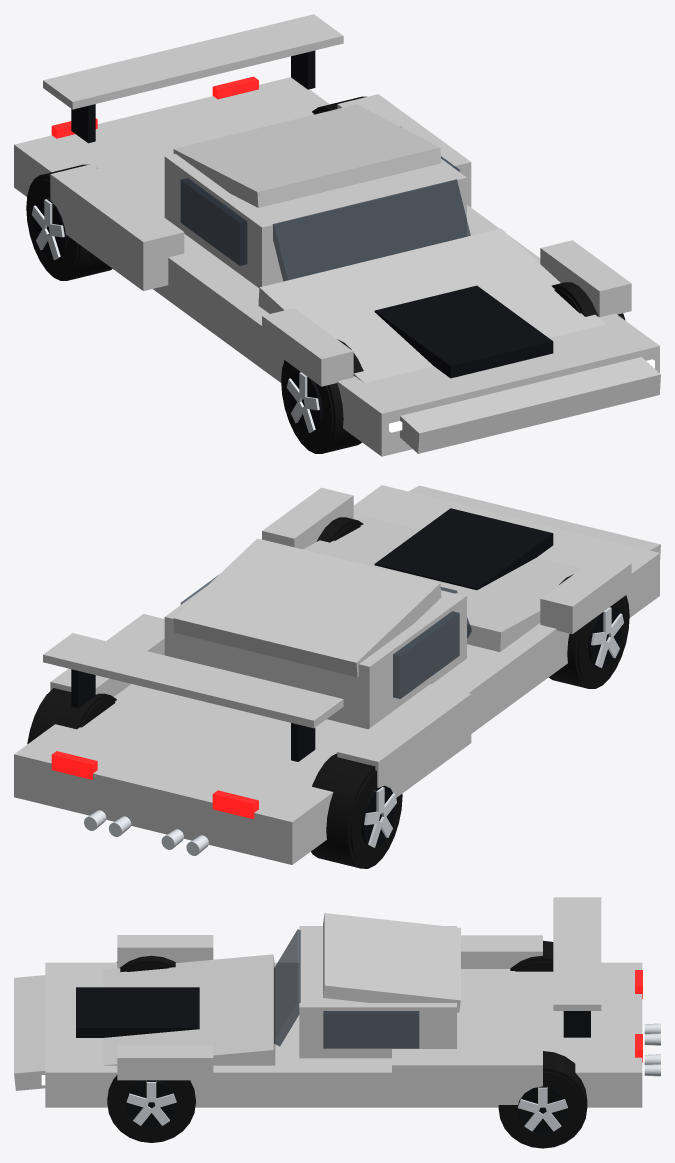
Rendered from shovel-megalodon.glb.
3 views of the same model, one above another, from view 1: azimuth 30°, elevation 25°; view 2: azimuth 150°, elevation 25°; view 3: azimuth 270°, elevation 25° (orthographic). The views are drawn at different scales.
Visible parts, largest first — view 1: chassis, glass, wheel-front-left, wheel-back-left, wheel-front-right; view 2: chassis, wheel-back-left, wheel-front-left, wheel-back-right, wheel-front-right; view 3: chassis, wheel-back-right, wheel-front-right, glass, wheel-back-left, wheel-front-left.
Boxes of the visible parts, bbox=[...] form: chassis: bbox=[14, 14, 660, 456]; glass: bbox=[272, 179, 470, 281]; wheel-front-left: bbox=[281, 339, 363, 453]; wheel-back-left: bbox=[26, 164, 112, 280]; wheel-front-right: bbox=[552, 282, 625, 320]; chassis: bbox=[14, 485, 660, 864]; wheel-back-left: bbox=[311, 753, 402, 868]; wheel-front-left: bbox=[549, 574, 629, 688]; wheel-back-right: bbox=[27, 688, 116, 744]; wheel-front-right: bbox=[316, 517, 363, 542]; chassis: bbox=[14, 897, 660, 1107]; wheel-back-right: bbox=[498, 1051, 587, 1148]; wheel-front-right: bbox=[107, 1075, 195, 1142]; glass: bbox=[274, 929, 300, 1046]; wheel-back-left: bbox=[510, 940, 553, 971]; wheel-front-left: bbox=[116, 955, 175, 971].
Bounding box in the file's own units: 2.28 × 1.09 × 4.71.
